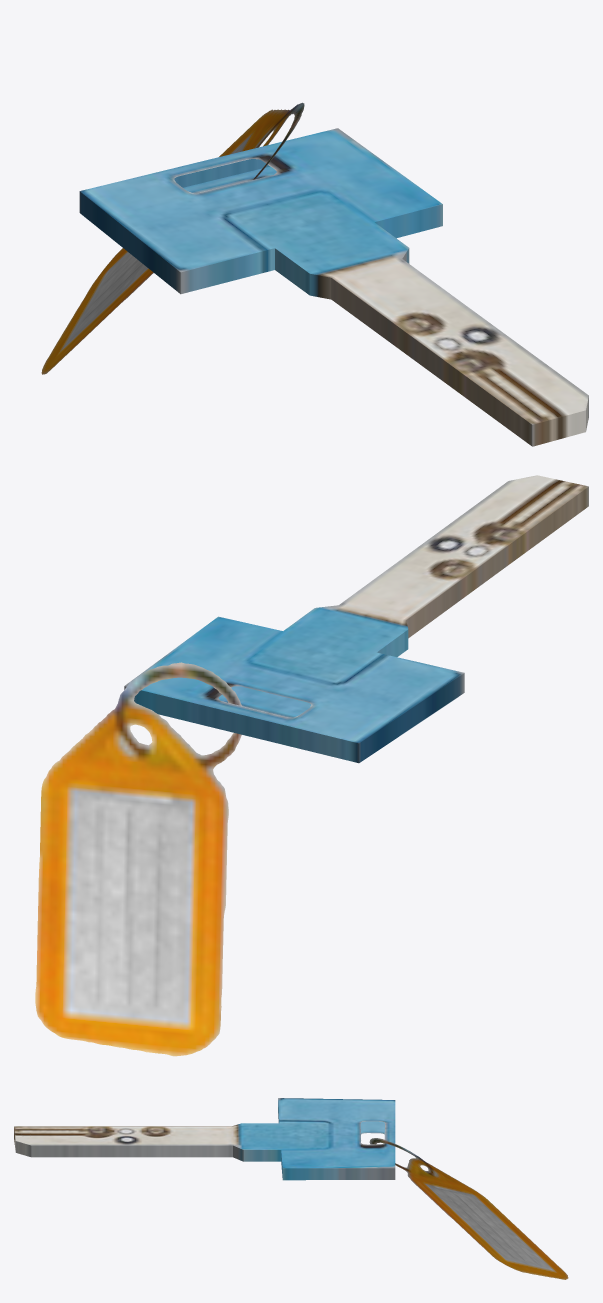
The model's file is key_janitor.fbx.
The picture shows the model from 3 angles, top to bottom: view 1: azimuth 30°, elevation 25°; view 2: azimuth 150°, elevation 25°; view 3: azimuth 270°, elevation 25°; orthographic projection. The views are drawn at different scales.
Parts seen in each view (by area): view 1: key_janitor; view 2: key_janitor; view 3: key_janitor.
Part boxes in pixels (x1,y1,x2,y2): key_janitor: (41, 102, 588, 446); key_janitor: (35, 475, 588, 1056); key_janitor: (14, 1098, 568, 1279).
Size of the model in its own units: 11.25 by 11.67 by 31.02.
1 material, 1 textured.
